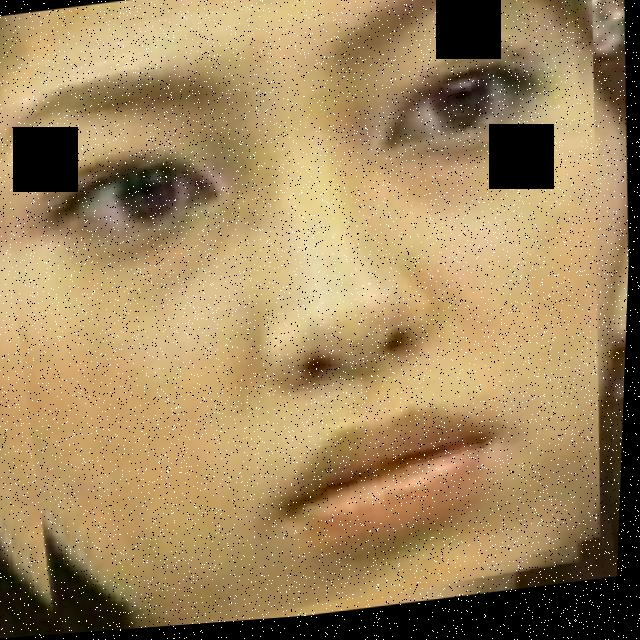anger: (0, 0, 624, 640)
